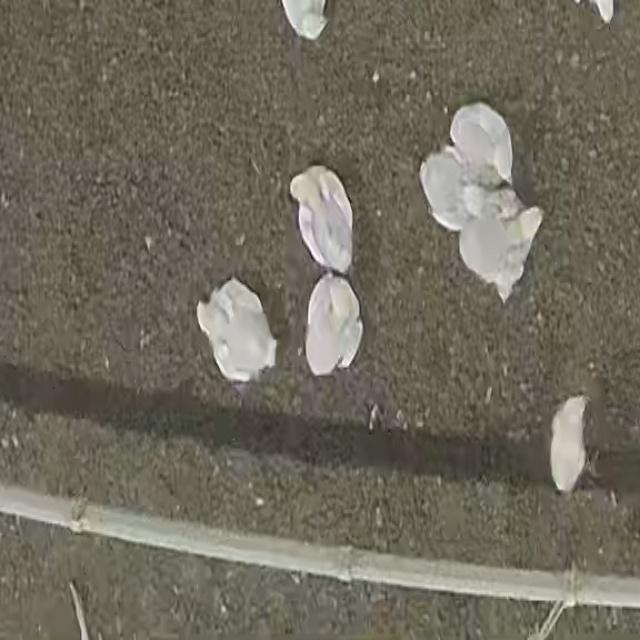chicken: (420, 147, 519, 230), (455, 200, 541, 292), (197, 278, 275, 376), (291, 166, 353, 275), (449, 100, 516, 188), (305, 271, 362, 373), (550, 396, 590, 491)
